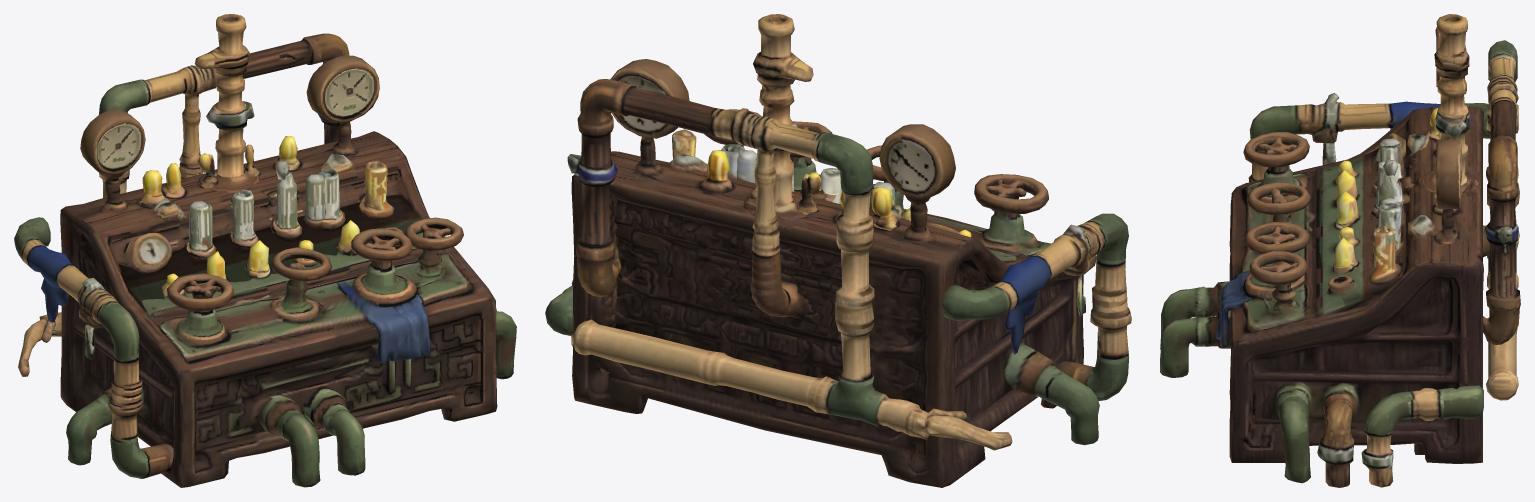
Rendered from Alchemist_s_Steam.glb.
The picture shows the model from 3 angles, left to right: view 1: azimuth 30°, elevation 25°; view 2: azimuth 150°, elevation 25°; view 3: azimuth 270°, elevation 25°; orthographic projection. The views are drawn at different scales.
Size of the model in its own units: 1.91 by 1.5 by 1.34.
Materials: 1 (1 with a texture image).
